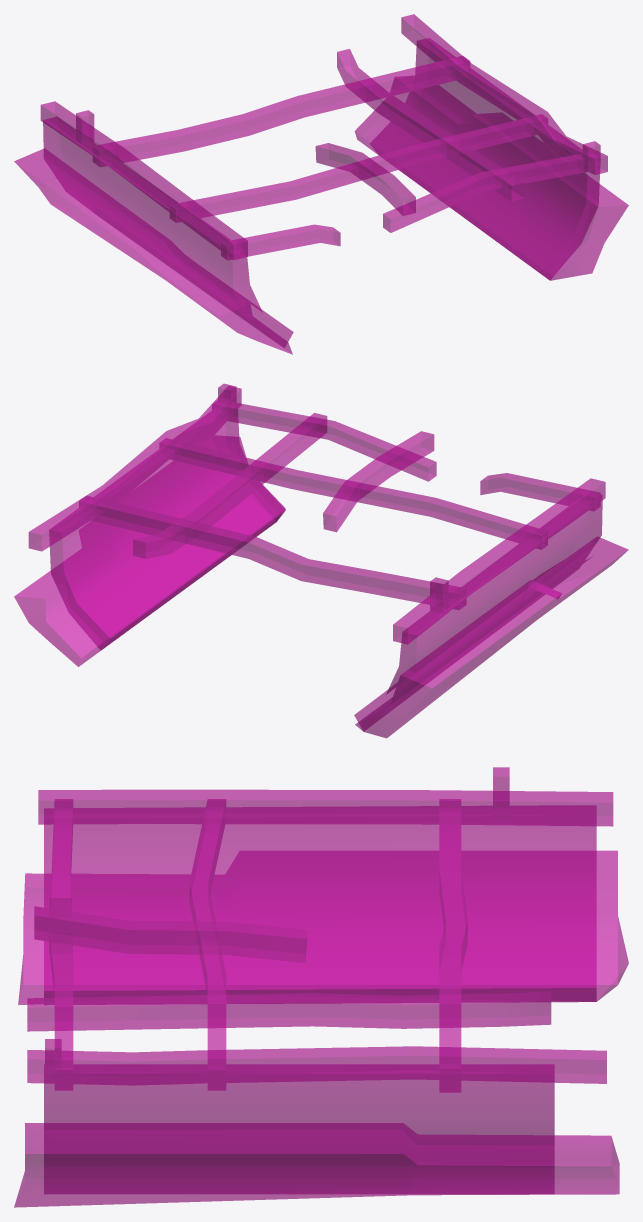
The model's file is SM_Prop_Ship_Skeleton_01_Collision.fbx.
The picture shows the model from 3 angles, top to bottom: view 1: azimuth 30°, elevation 25°; view 2: azimuth 150°, elevation 25°; view 3: azimuth 270°, elevation 25°; orthographic projection. The views are drawn at different scales.
Parts seen in each view (by area): view 1: SM_Prop_Ship_Skeleton_01_Collision; view 2: SM_Prop_Ship_Skeleton_01_Collision; view 3: SM_Prop_Ship_Skeleton_01_Collision.
Part boxes in pixels (box(x1,y1,x2,y2)): SM_Prop_Ship_Skeleton_01_Collision: box(14, 14, 628, 354); SM_Prop_Ship_Skeleton_01_Collision: box(14, 383, 628, 738); SM_Prop_Ship_Skeleton_01_Collision: box(14, 767, 628, 1207).
Size of the model in its own units: 2369 by 728 by 2032.
